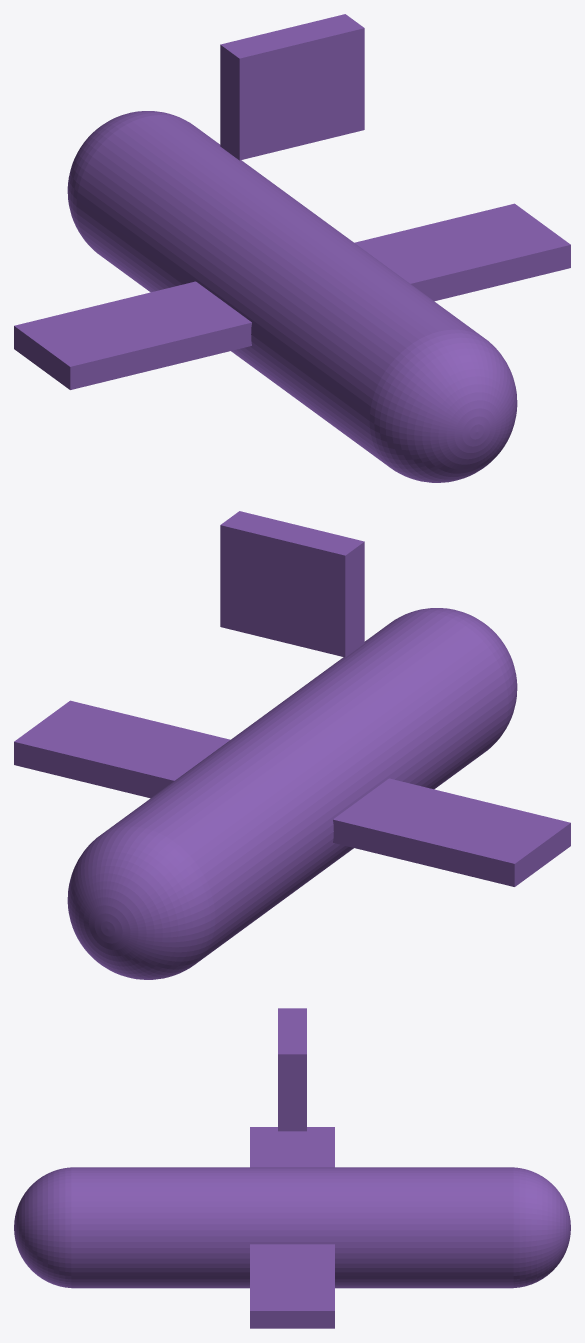
The model's file is tech_131.glb.
The picture shows the model from 3 angles, top to bottom: view 1: azimuth 30°, elevation 25°; view 2: azimuth 150°, elevation 25°; view 3: azimuth 270°, elevation 25°; orthographic projection. The views are drawn at different scales.
Visible parts, largest first — view 1: world; view 2: world; view 3: world.
Boxes of the visible parts, left/top/right/bottom form: world: left=14, top=14, right=570, bottom=482; world: left=14, top=511, right=570, bottom=979; world: left=14, top=1008, right=570, bottom=1328.
Size of the model in its own units: 1.8 by 1.14 by 2.3.
